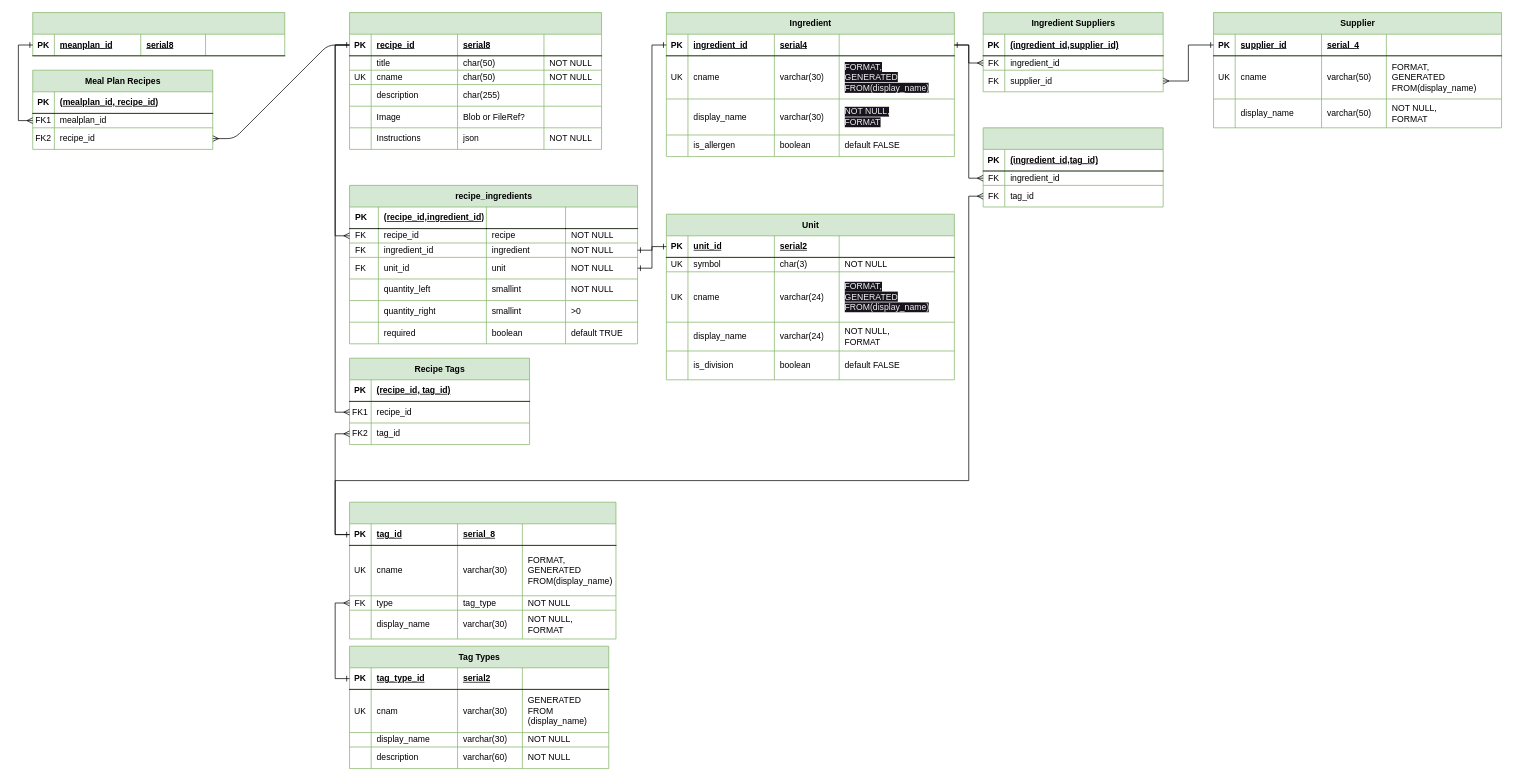
The diagram is 1514 pixels wide and 781 high, and some of its shapes have lost their labels. Each missing label, with the box of its shape:
Ingredient Tags: (982, 127, 1163, 207)
Meal Plans: (32, 12, 285, 56)
Recipes: (349, 12, 602, 149)
Tags: (349, 501, 616, 639)
